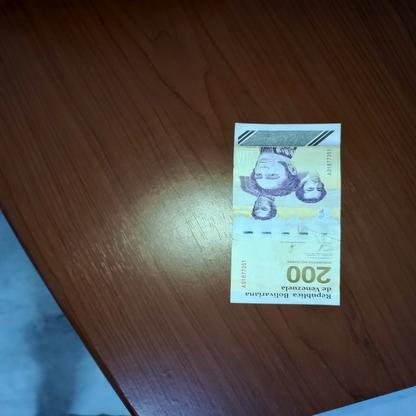two_hundred-front-vef: (230, 122, 341, 306)
